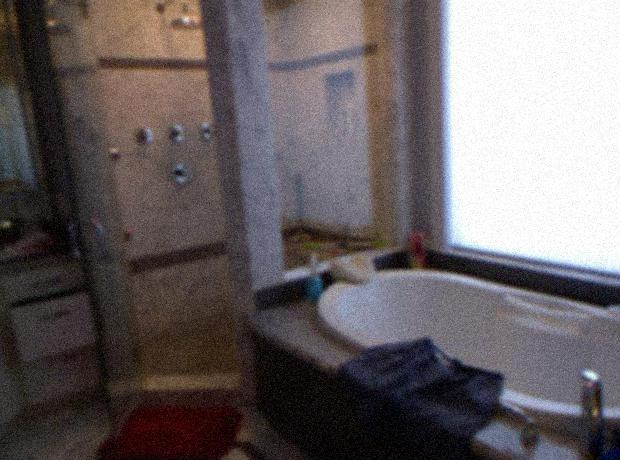Ducha: (51, 6, 390, 410)
